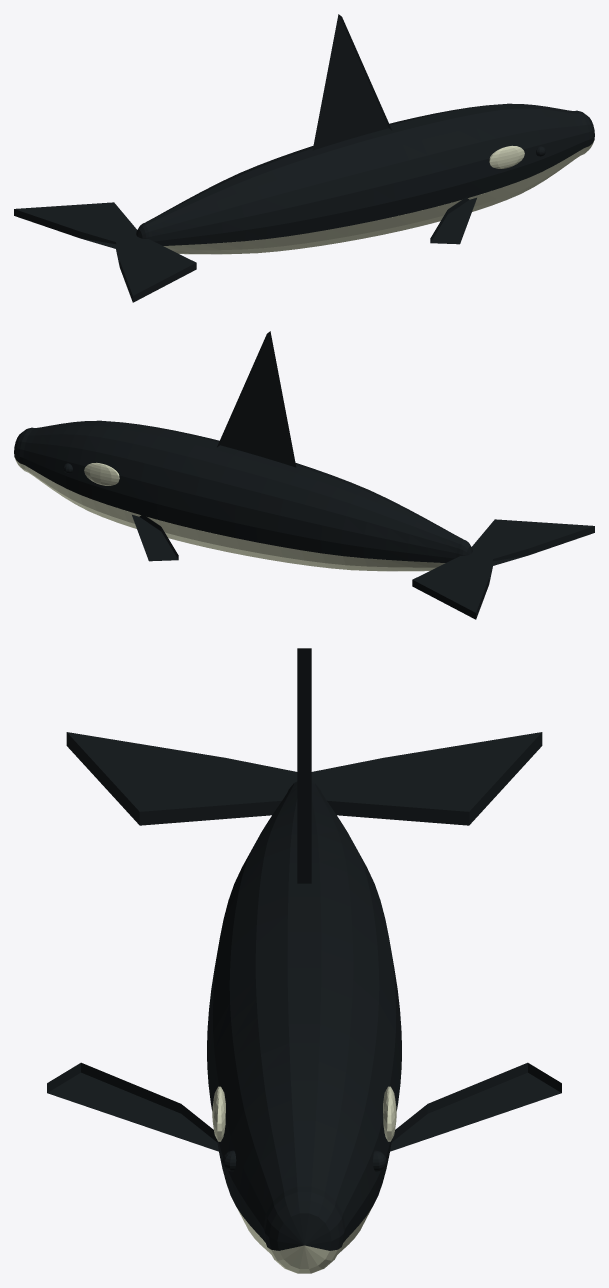
The model's file is orca.dae.
3 renders of one model, top to bottom at view 1: azimuth 30°, elevation 25°; view 2: azimuth 150°, elevation 25°; view 3: azimuth 270°, elevation 25°, orthographic. The views are drawn at different scales.
Parts seen in each view (by area): view 1: part1-node, part0-node; view 2: part1-node, part0-node; view 3: part1-node, part0-node.
Part boxes in pixels (bbox=[...]): part1-node: bbox=[14, 14, 594, 302]; part0-node: bbox=[163, 140, 594, 254]; part1-node: bbox=[14, 331, 594, 619]; part0-node: bbox=[14, 457, 445, 571]; part1-node: bbox=[47, 648, 561, 1250]; part0-node: bbox=[212, 1086, 396, 1273].
Bounding box in the file's own units: 7 × 3.01 × 2.9.
